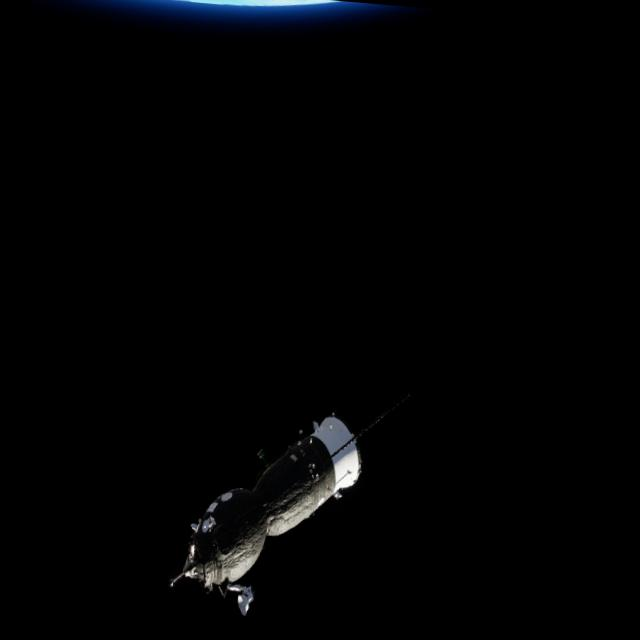Satellites revolving around earth: (165, 397, 368, 626)
